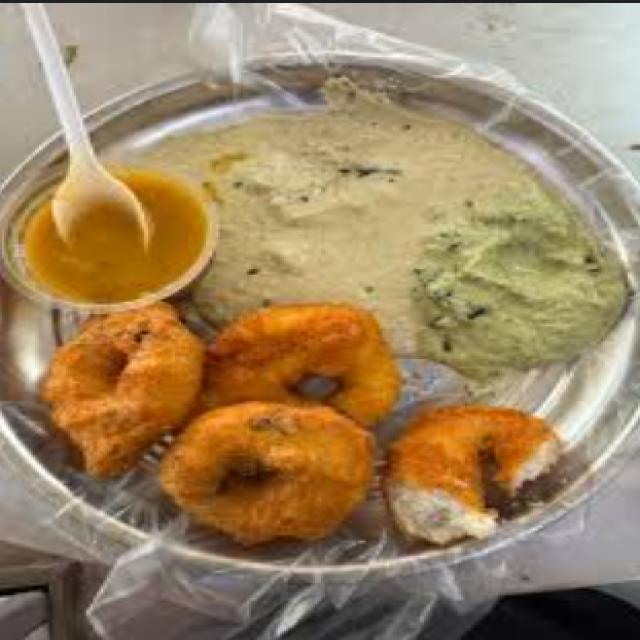peanut chutney: (184, 131, 446, 288)
